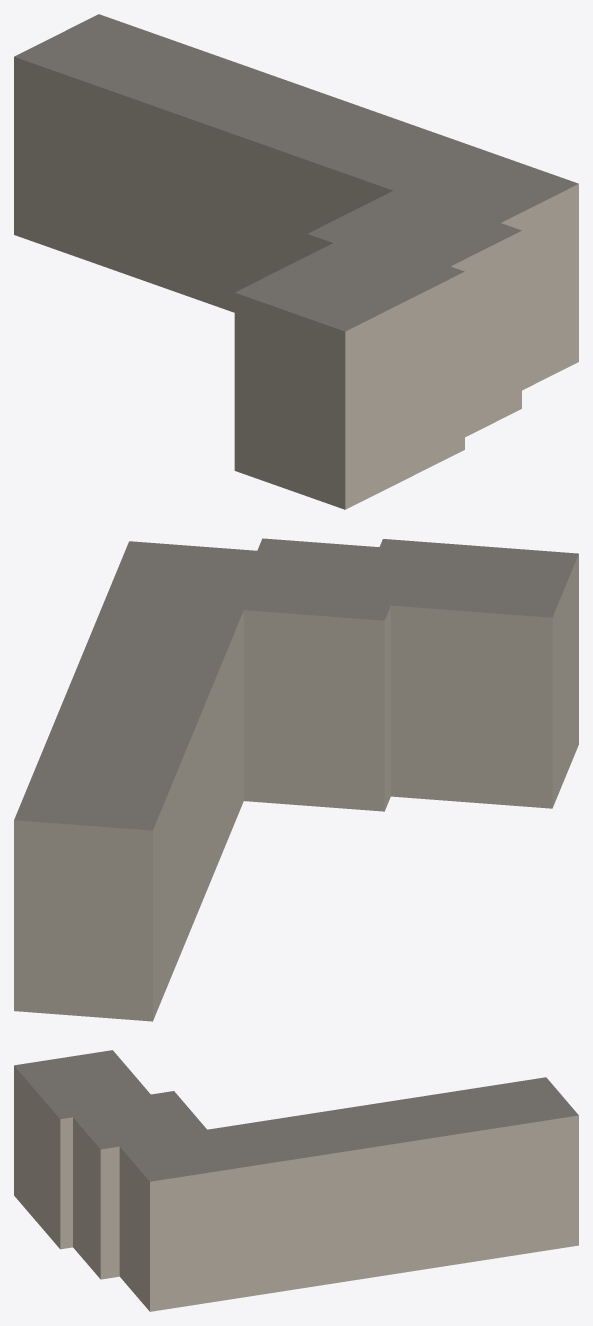
3 renders of one model, top to bottom at view 1: azimuth 30°, elevation 25°; view 2: azimuth 150°, elevation 25°; view 3: azimuth 270°, elevation 25°, orthographic. The views are drawn at different scales.
Visible parts, largest first — view 1: HP-w369342451; view 2: HP-w369342451; view 3: HP-w369342451.
Boxes of the visible parts, x1=… form: HP-w369342451: x1=14, y1=14, x2=578, y2=509; HP-w369342451: x1=14, y1=538, x2=578, y2=1021; HP-w369342451: x1=14, y1=1050, x2=578, y2=1311.
Size of the model in its own units: 39.08 by 18 by 70.84.
